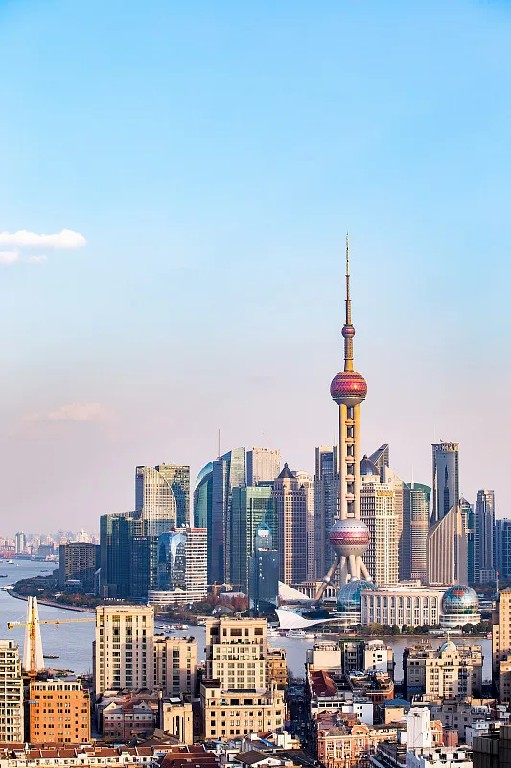Oriental: (309, 231, 374, 598)
